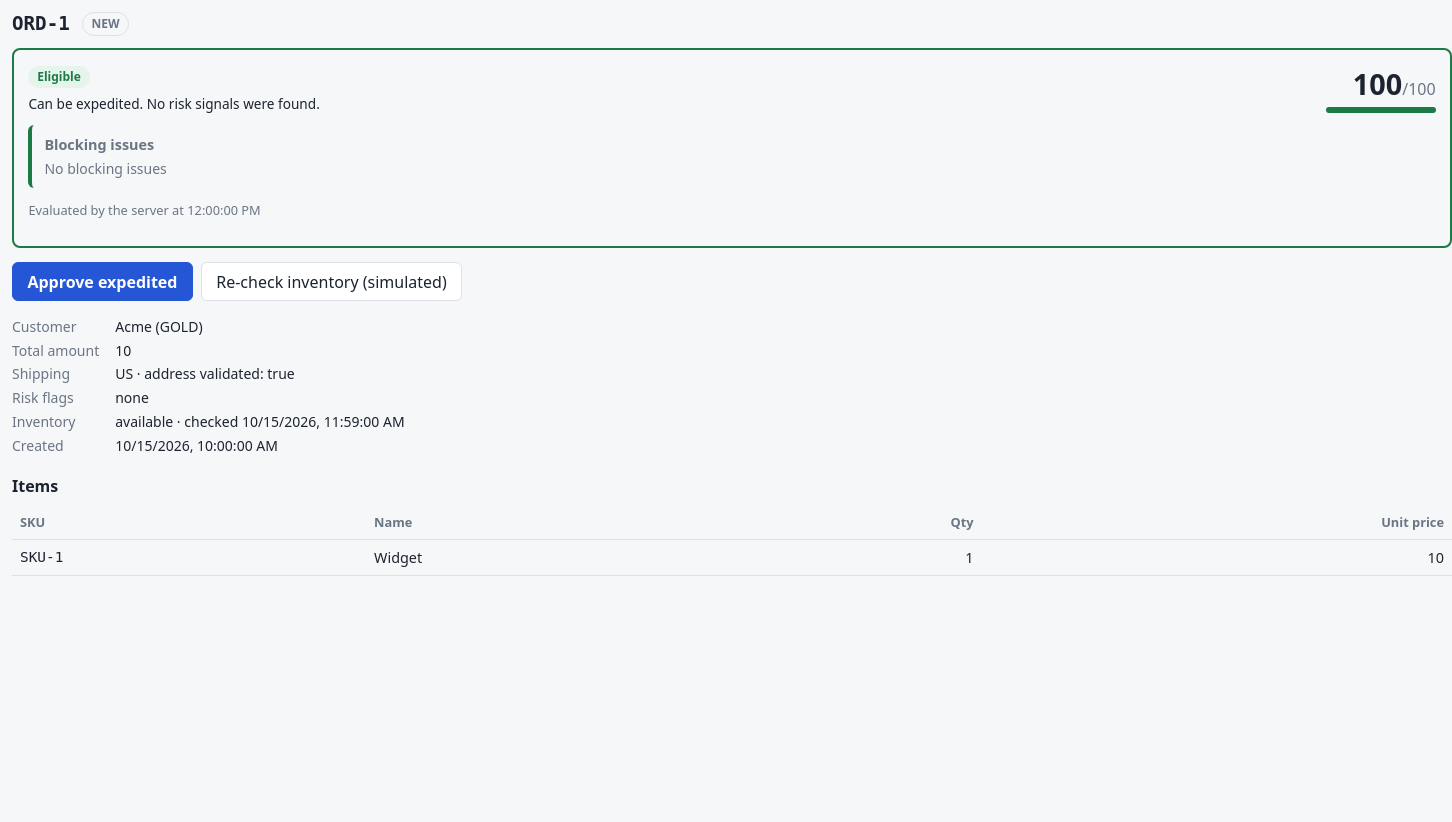
Test: OrderDetail approval › approves and asks the parent to re-sync
The image size is (1452, 822).
Click the button "Approve expedited". click: (102, 282)
box: [12, 262, 193, 301]
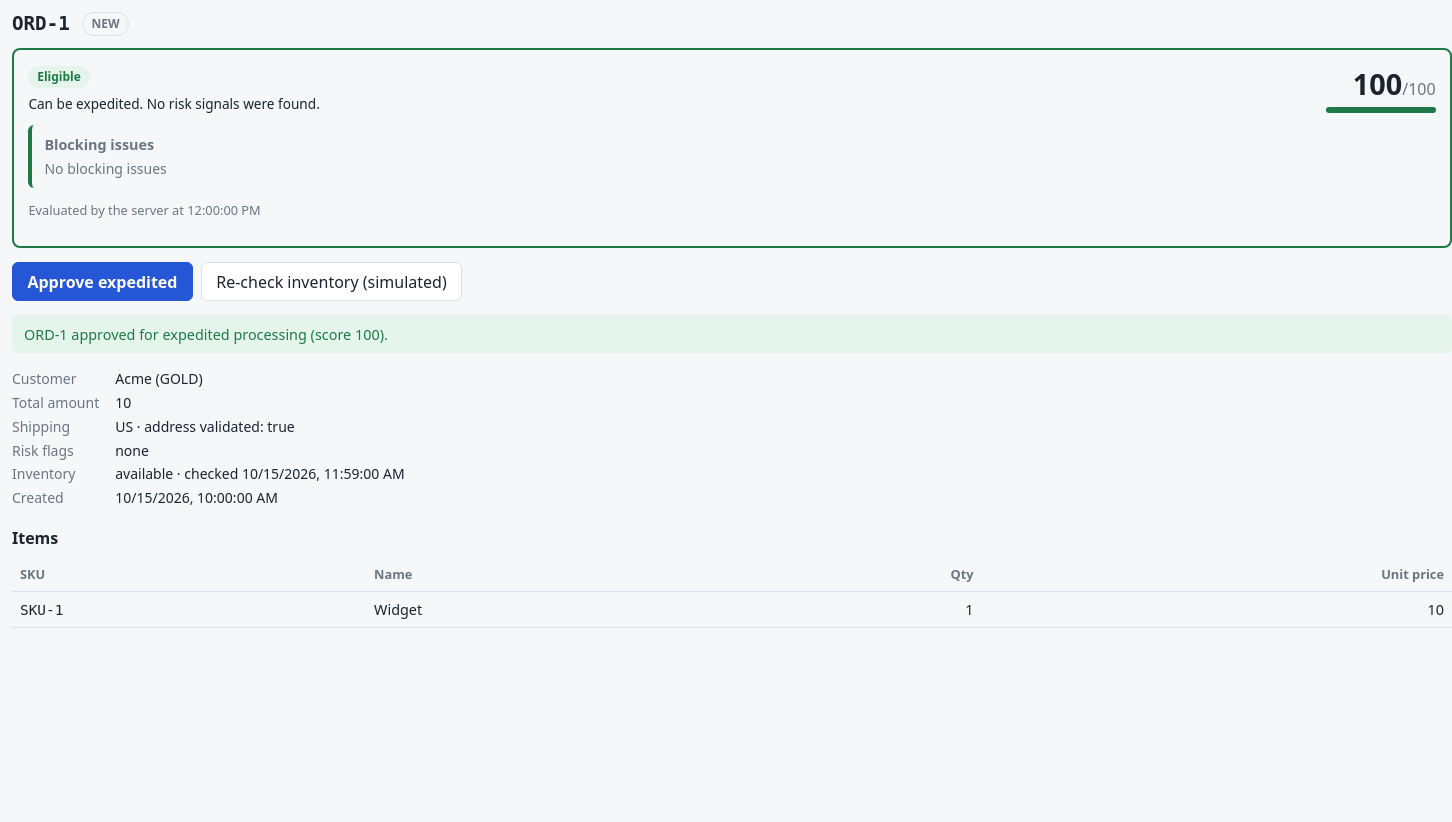
Expected: the message shows "ORD-1 approved for expedited processing", [24, 325, 388, 344]
